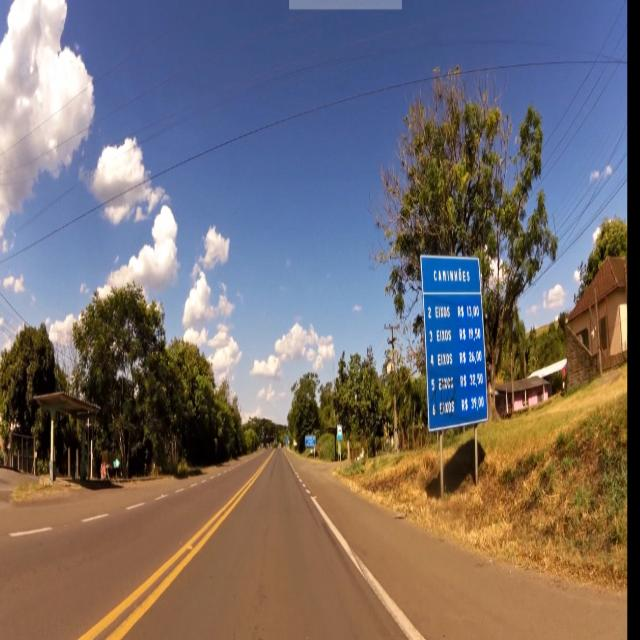LOC-6: (420, 254, 490, 426)
